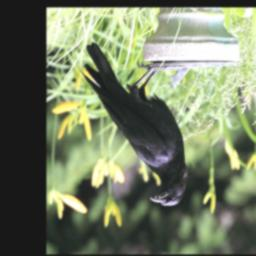Crow: (78, 40, 188, 207)
